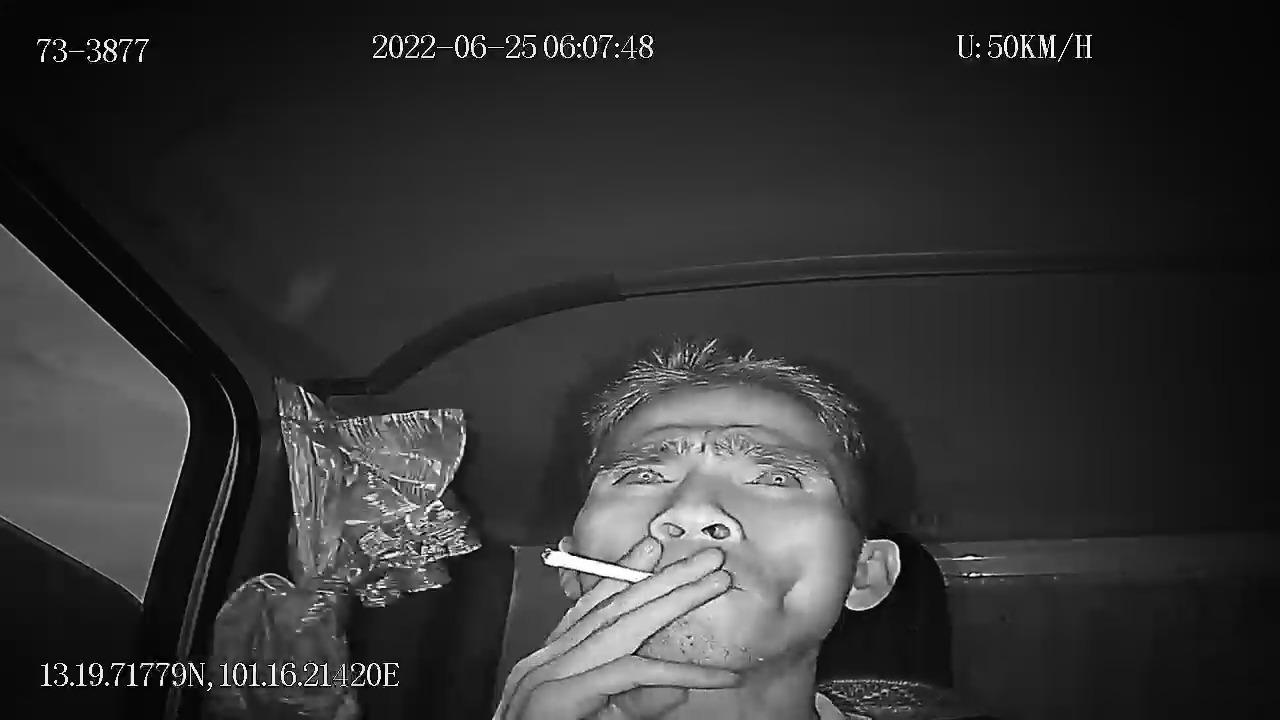Smoking: (501, 530, 690, 598)
